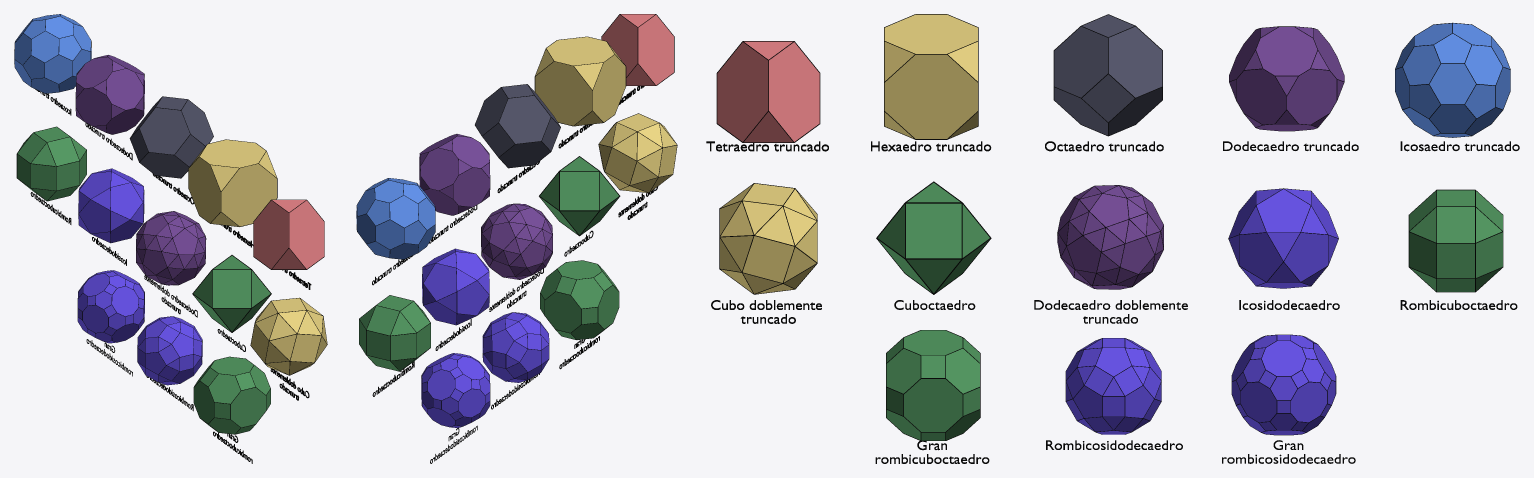
File: Arquimedeanos.glb
3 views of the same model, side by side, from view 1: azimuth 30°, elevation 25°; view 2: azimuth 150°, elevation 25°; view 3: azimuth 270°, elevation 25° (orthographic). The views are drawn at different scales.
Parts seen in each view (by area): view 1: Solid.001, Solid.004, Solid.002, Solid.012, Solid.003, Solid.005, Solid, Solid.007, Solid.010, Solid.009, Solid.008, Solid.011 (+15 smaller); view 2: Solid.001, Solid.004, Solid.002, Solid.012, Solid.003, Solid.005, Solid.007, Solid.010, Solid.009, Solid.008, Solid, Solid.011 (+15 smaller); view 3: Solid.001, Solid.004, Solid.002, Solid.003, Solid, Solid.012, Solid.005, Solid.007, Solid.009, Solid.010, Solid.008, Solid.011 (+13 smaller).
Boxes of the visible parts, x1,y1,x2,y2 form: Solid.001: (188, 140, 276, 226); Solid.004: (14, 14, 91, 93); Solid.002: (130, 97, 213, 177); Solid.012: (194, 357, 270, 434); Solid.003: (76, 55, 144, 134); Solid.005: (251, 298, 327, 374); Solid: (253, 200, 324, 269); Solid.007: (136, 211, 205, 285); Solid.010: (78, 270, 144, 342); Solid.009: (78, 168, 144, 242); Solid.008: (17, 127, 86, 200); Solid.011: (137, 316, 202, 384); Solid.001: (535, 37, 625, 125); Solid.004: (356, 178, 435, 259); Solid.002: (475, 84, 560, 167); Solid.012: (540, 260, 618, 339); Solid.003: (419, 134, 489, 215); Solid.005: (599, 114, 676, 192); Solid.007: (481, 204, 552, 279); Solid.010: (421, 353, 489, 427); Solid.009: (422, 249, 489, 324); Solid.008: (359, 295, 430, 370); Solid: (601, 14, 673, 85); Solid.011: (482, 312, 548, 382); Solid.001: (884, 14, 977, 138); Solid.004: (1395, 23, 1510, 137); Solid.002: (1054, 15, 1162, 135); Solid.003: (1229, 27, 1344, 130); Solid: (717, 41, 819, 142); Solid.012: (886, 330, 979, 440); Solid.005: (720, 183, 817, 293); Solid.007: (1057, 185, 1163, 289); Solid.009: (1229, 189, 1338, 288); Solid.010: (1232, 335, 1335, 434); Solid.008: (1409, 190, 1502, 291); Solid.011: (1066, 338, 1161, 434).
Size of the model in its own units: 1.44 by 5.92 by 9.97.
